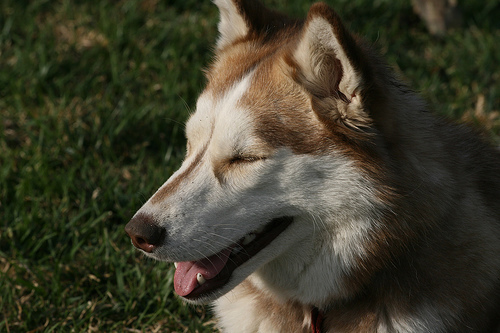dog: (124, 2, 499, 332)
